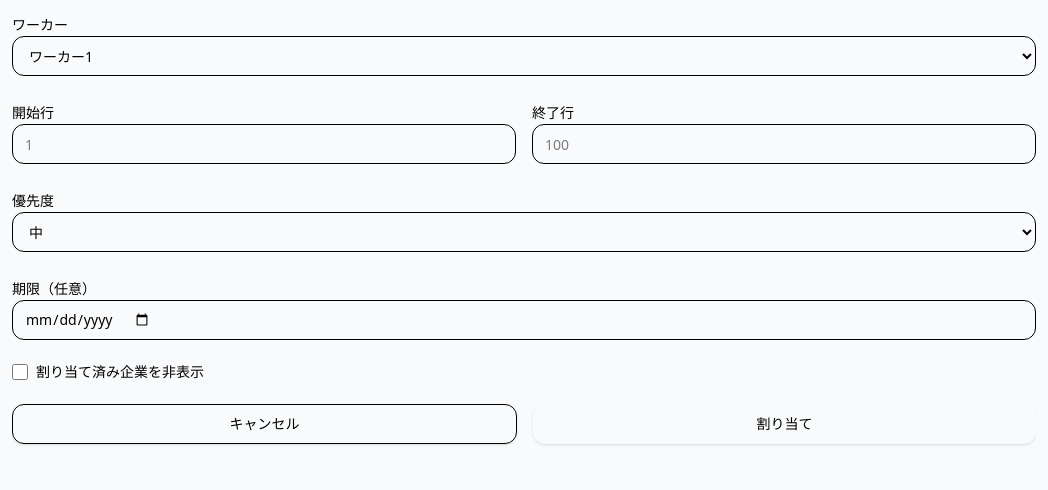
Test: WorkerAssignmentForm › バリデーション › 開始行が終了行より大きい場合エラーが表示される
This screenshot has width=1048, height=490.
Note:  ワーカーを選択
Select "ワーカー1" in the dropdown labelled "ワーカー": (524, 56) [12,36,1036,76]
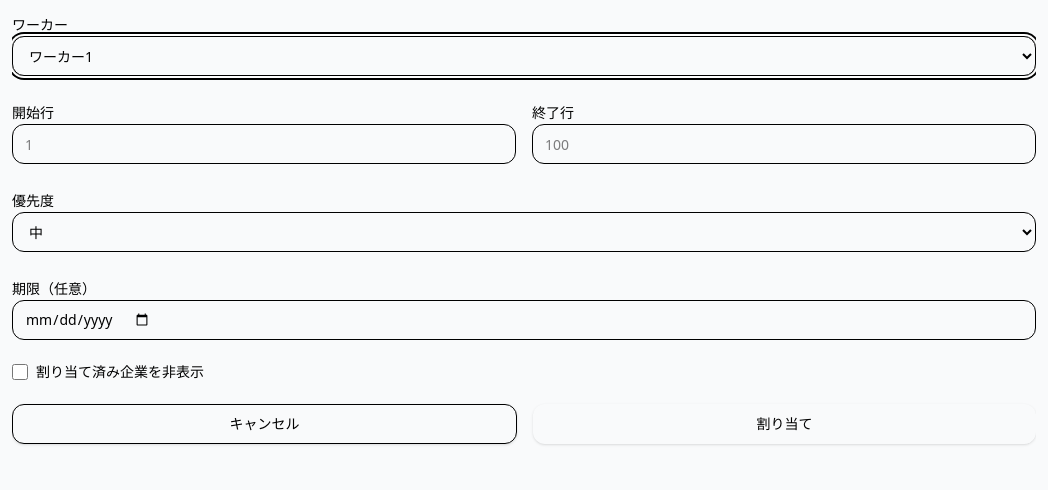
In the number field labelled "開始行": (264, 144) [12,124,516,164], type "100"
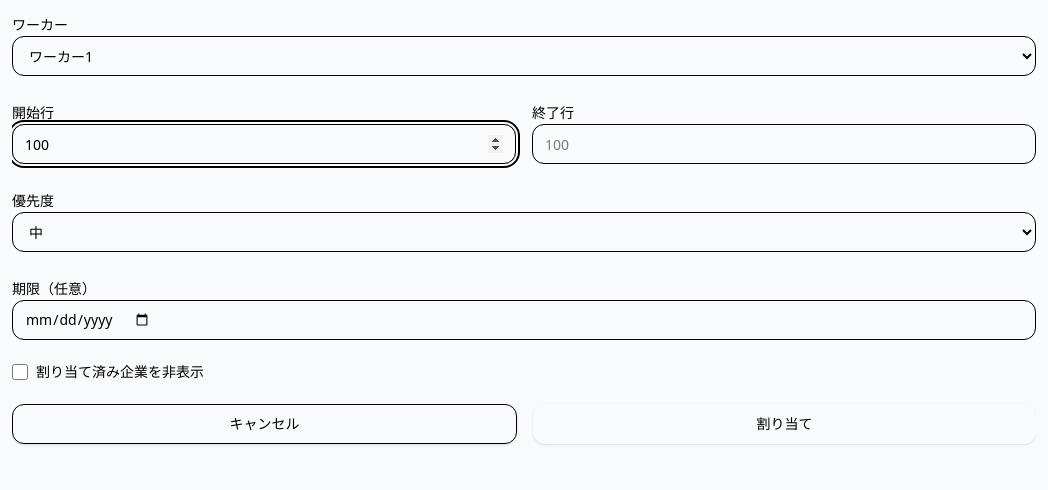
In the number field labelled "終了行": (784, 144) [532,124,1036,164], type "50"
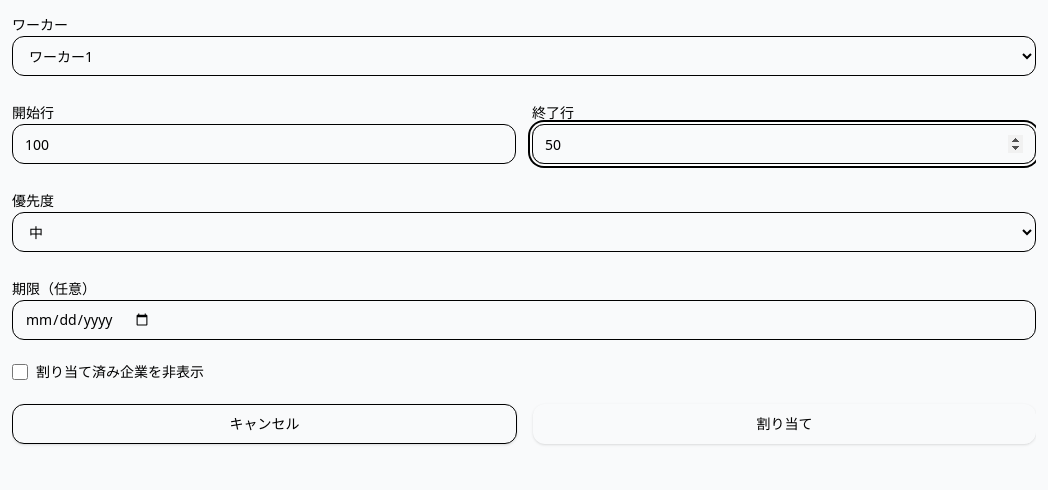
Click the button "割り当て": click(784, 424) [533,404,1036,444]
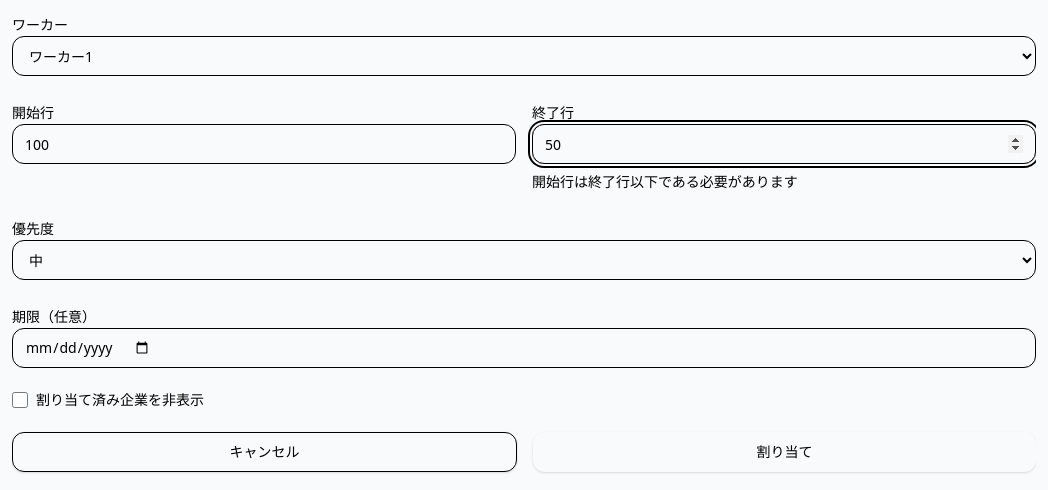
Result: the text "開始行は終了行以下である必要があります" is shown at [532,172,798,191]
